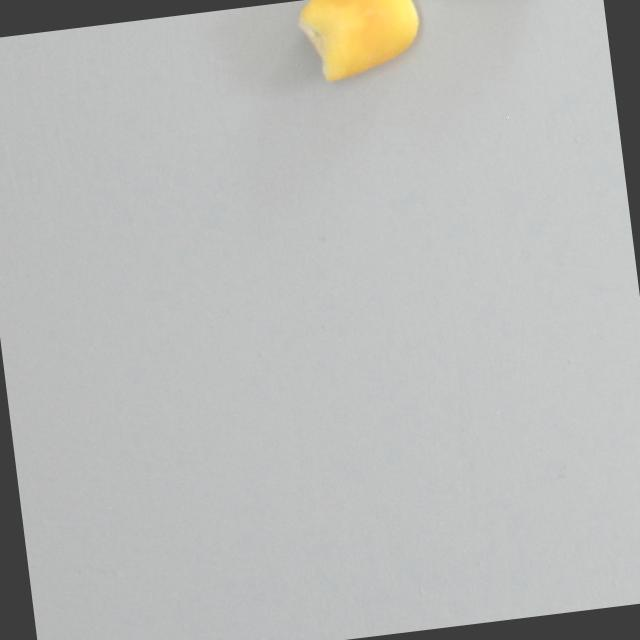no_desgerminado: (291, 0, 429, 90)
